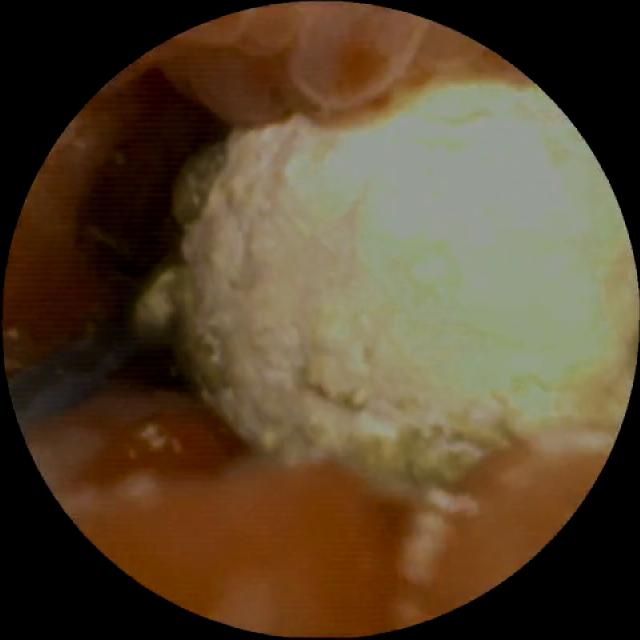stone: (130, 87, 621, 499)
